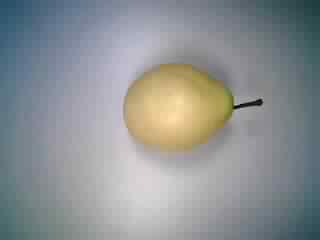pear: (113, 55, 268, 163)
